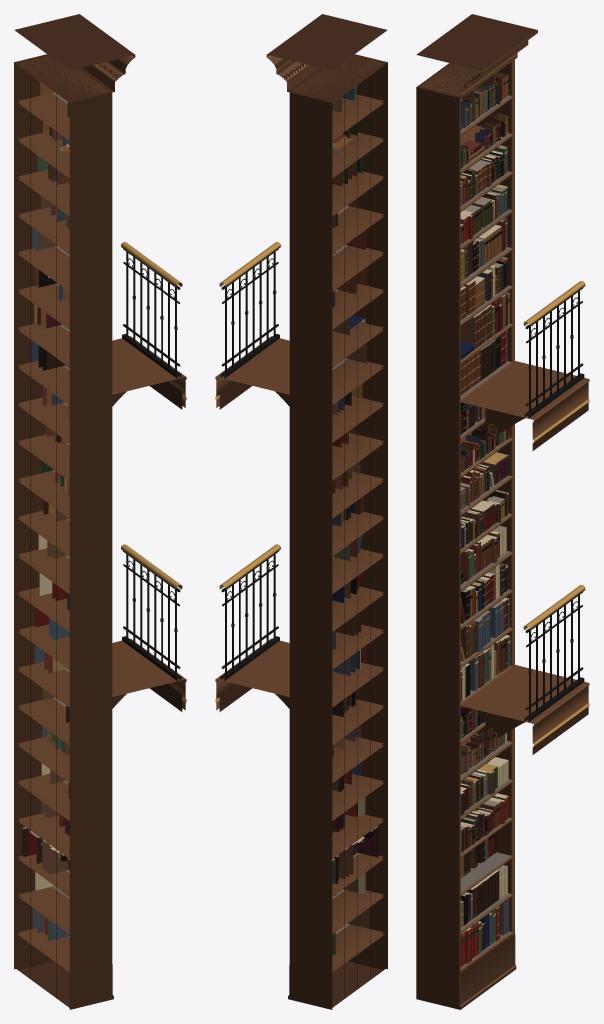
File: library_wall@1.glb
The picture shows the model from 3 angles, left to right: view 1: azimuth 30°, elevation 25°; view 2: azimuth 150°, elevation 25°; view 3: azimuth 330°, elevation 25°; orthographic projection.
Visible parts, largest first — view 1: regalwand; view 2: regalwand; view 3: regalwand.
Boxes of the visible parts, x1,y1,x2,y2 form: regalwand: (14,14,186,1009); regalwand: (215,14,387,1009); regalwand: (416,14,589,1009).
Bounding box in the file's own units: 1.22 × 9.32 × 1.
